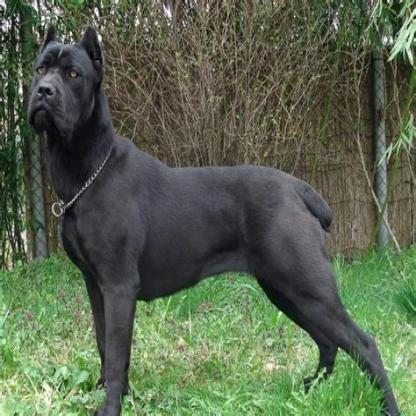dog: (28, 28, 408, 414)
